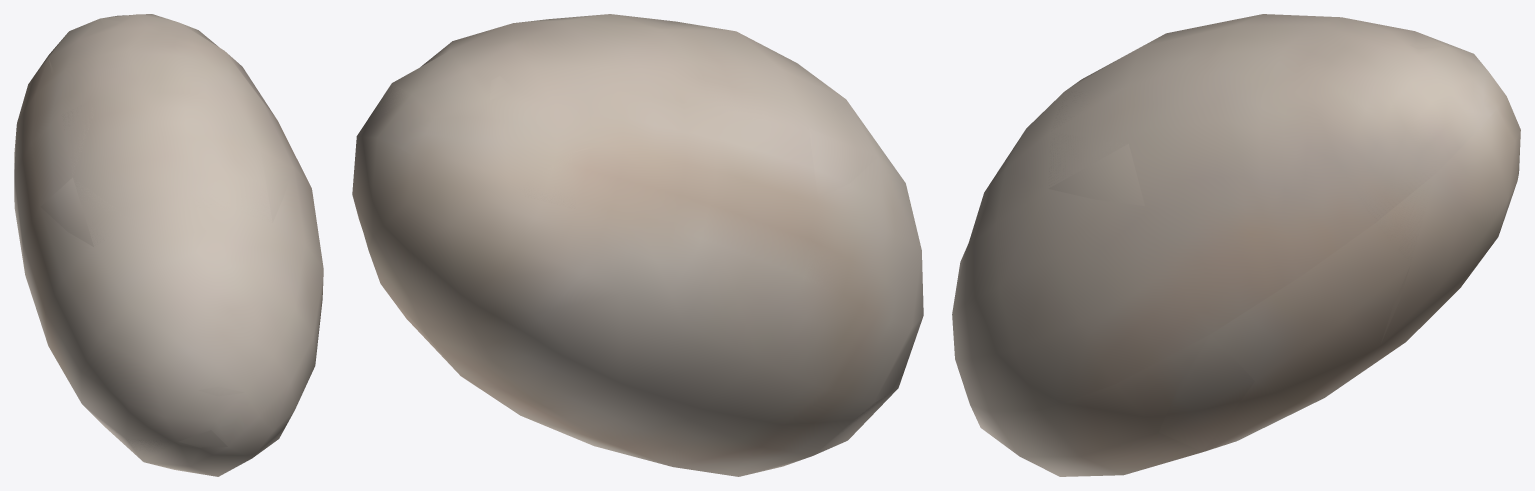
File: Radiale R.fbx
3 views of the same model, side by side, from view 1: azimuth 30°, elevation 25°; view 2: azimuth 150°, elevation 25°; view 3: azimuth 270°, elevation 25° (orthographic). The views are drawn at different scales.
Parts seen in each view (by area): view 1: Radiale R, Radiale R low; view 2: Radiale R, Radiale R low; view 3: Radiale R, Radiale R low.
Part boxes in pixels (box(x1,y1,x2,y2)): Radiale R: box(14, 14, 323, 476); Radiale R low: box(24, 18, 293, 460); Radiale R: box(352, 14, 923, 476); Radiale R low: box(359, 73, 891, 447); Radiale R: box(952, 14, 1520, 476); Radiale R low: box(1048, 42, 1445, 451).
Bounding box in the file's own units: 0.0367 × 0.0441 × 0.0499.
Materials: 1 (1 with a texture image).
